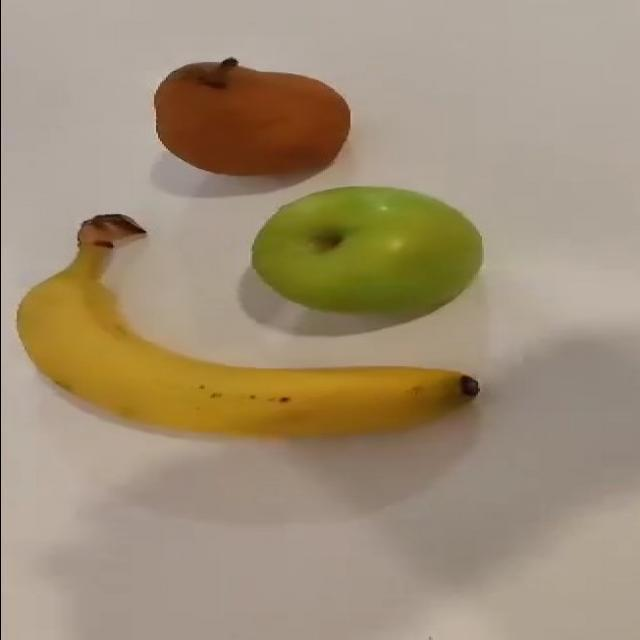Apple: (250, 185, 483, 318), (153, 55, 351, 176)
Banana: (15, 212, 479, 439)
